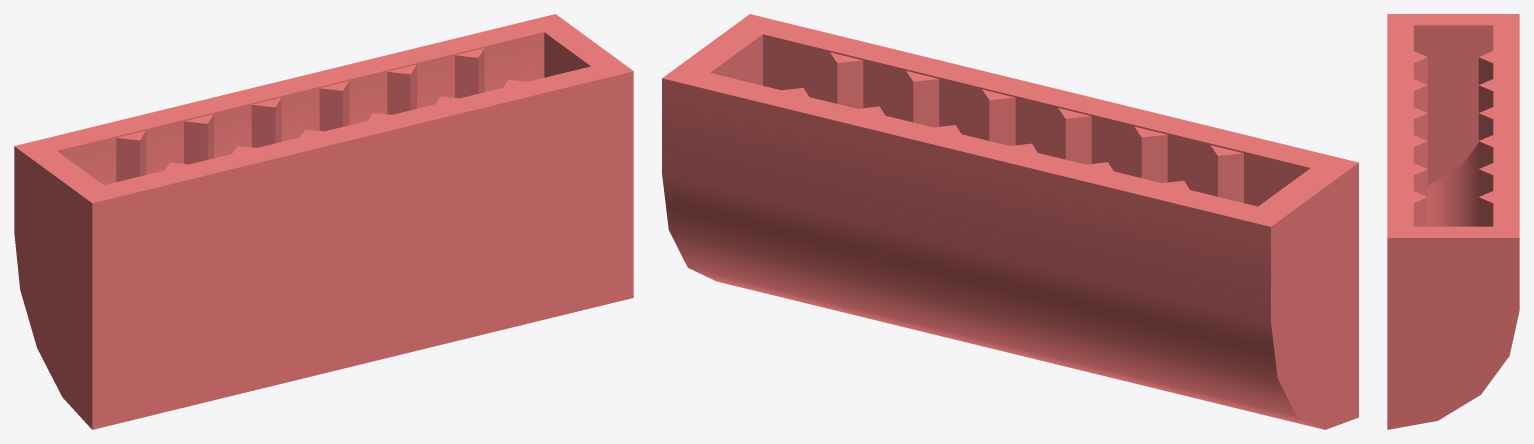
3 views of the same model, side by side, from view 1: azimuth 30°, elevation 25°; view 2: azimuth 150°, elevation 25°; view 3: azimuth 270°, elevation 25° (orthographic). The views are drawn at different scales.
Visible parts, largest first — view 1: LDrawPart; view 2: LDrawPart; view 3: LDrawPart.
Boxes of the visible parts, left/top/right/bottom form: LDrawPart: left=14, top=14, right=633, bottom=429; LDrawPart: left=662, top=14, right=1358, bottom=429; LDrawPart: left=1387, top=14, right=1519, bottom=429.
Size of the model in its own units: 0.56 by 0.224 by 0.14.
